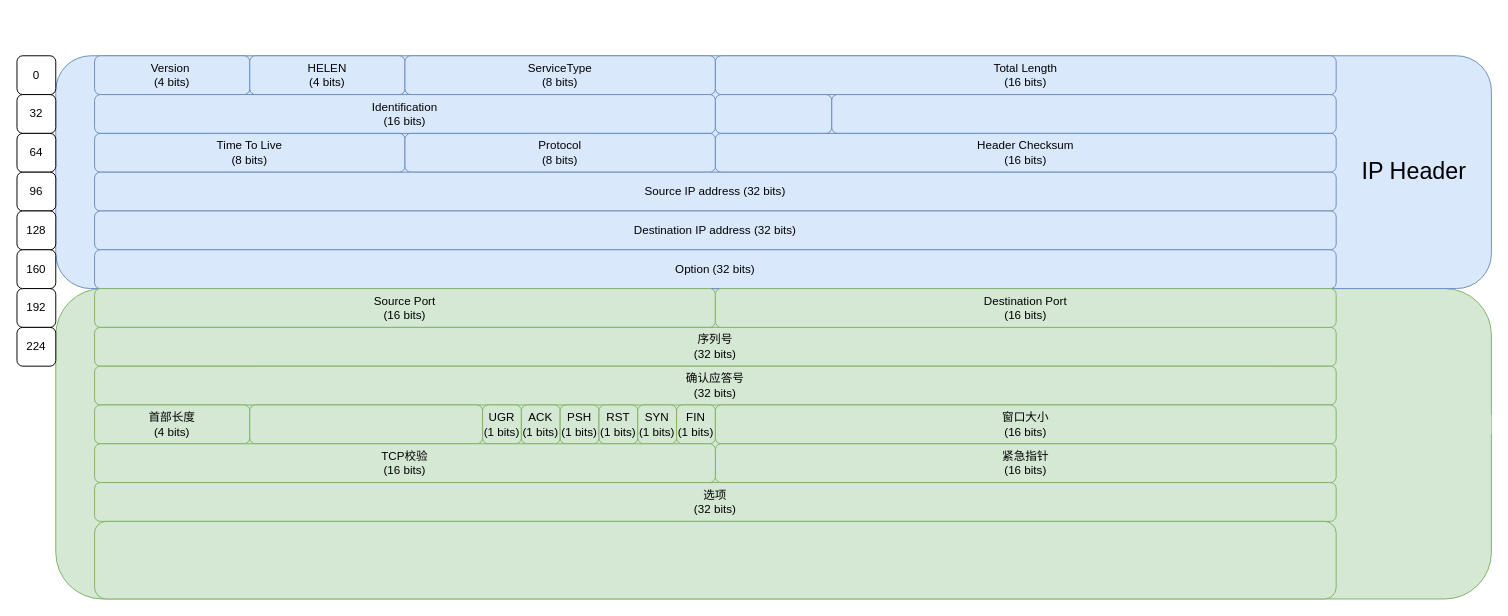
Image size: 1508x616. Some labels were removed from this diagram. Each missing label, with the box of its shape:
Flags (3 bits): (714, 94, 832, 133)
FragmentationOffset (13 bits): (831, 94, 1336, 133)
UDP Header: (1345, 414, 1491, 434)
保留位 (6 bits): (249, 404, 483, 444)
数据 (n bits): (94, 520, 1336, 599)
